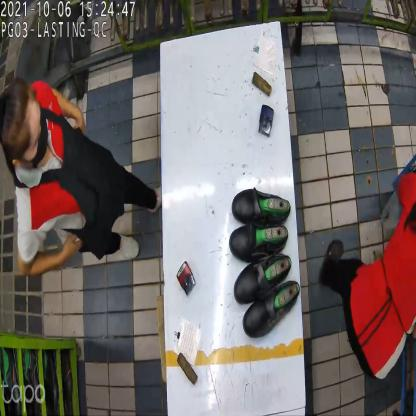shoes: (234, 257, 297, 333), (230, 188, 286, 254)
stamp: (257, 107, 277, 141), (179, 263, 196, 295)
